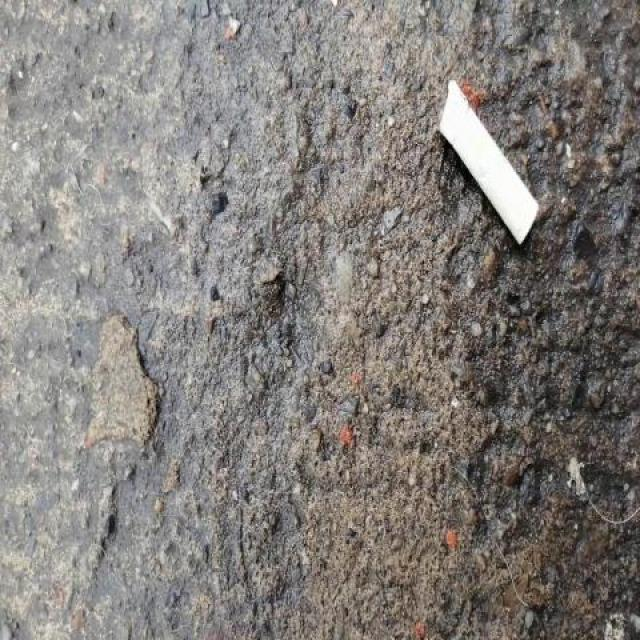non-organic waste: (433, 74, 543, 255)
